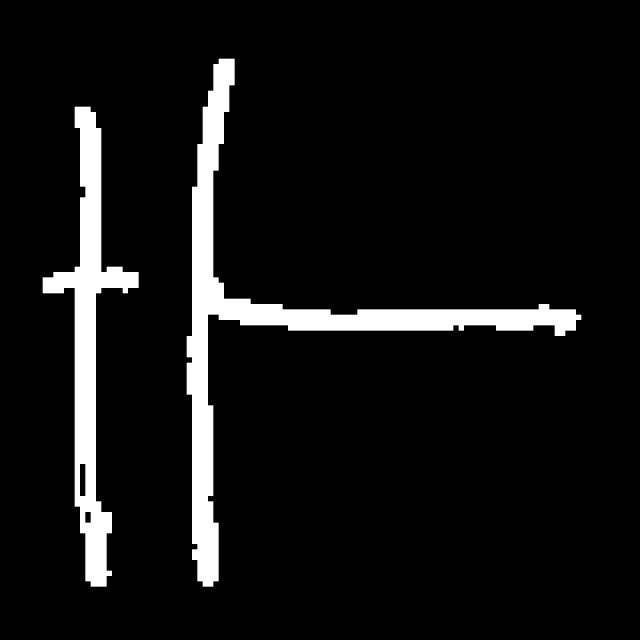capacitor: (65, 39, 239, 596)
